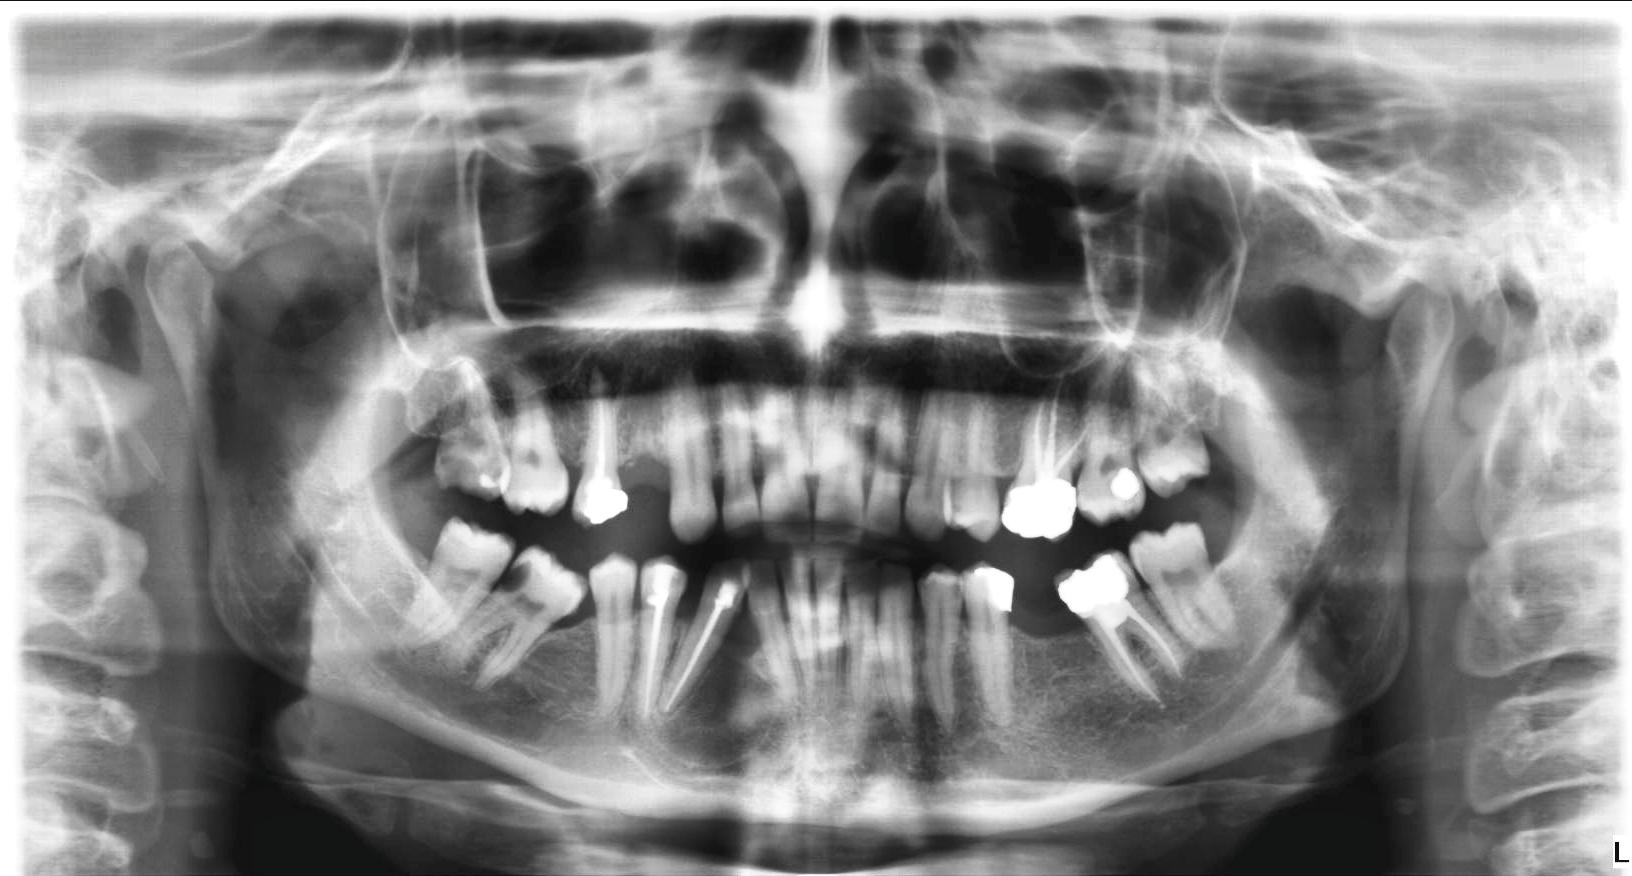keratokist: (646, 619, 780, 769)
